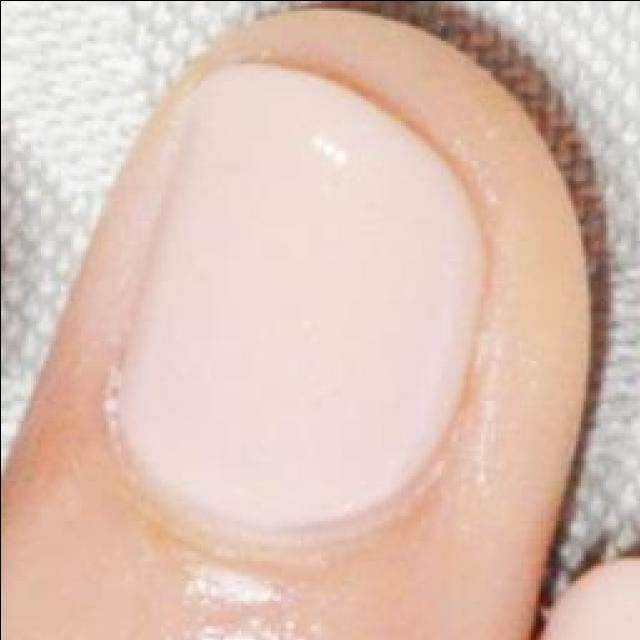Nail: (110, 59, 479, 524)
